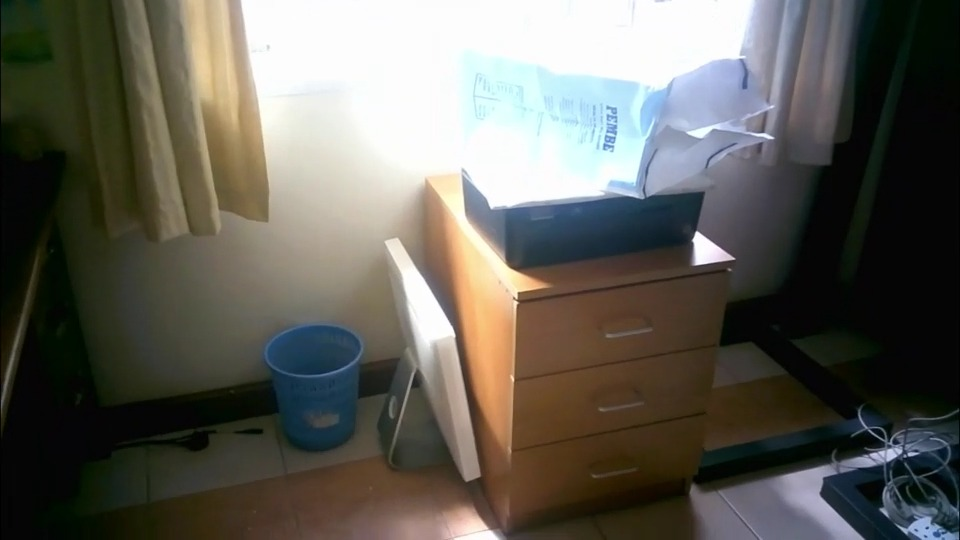maize_flour_green_label: (451, 45, 771, 196)
